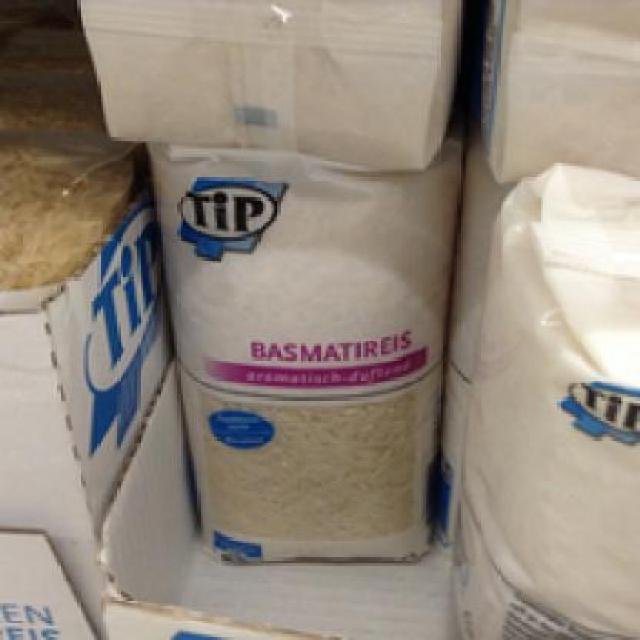Rice: (146, 143, 460, 560)
